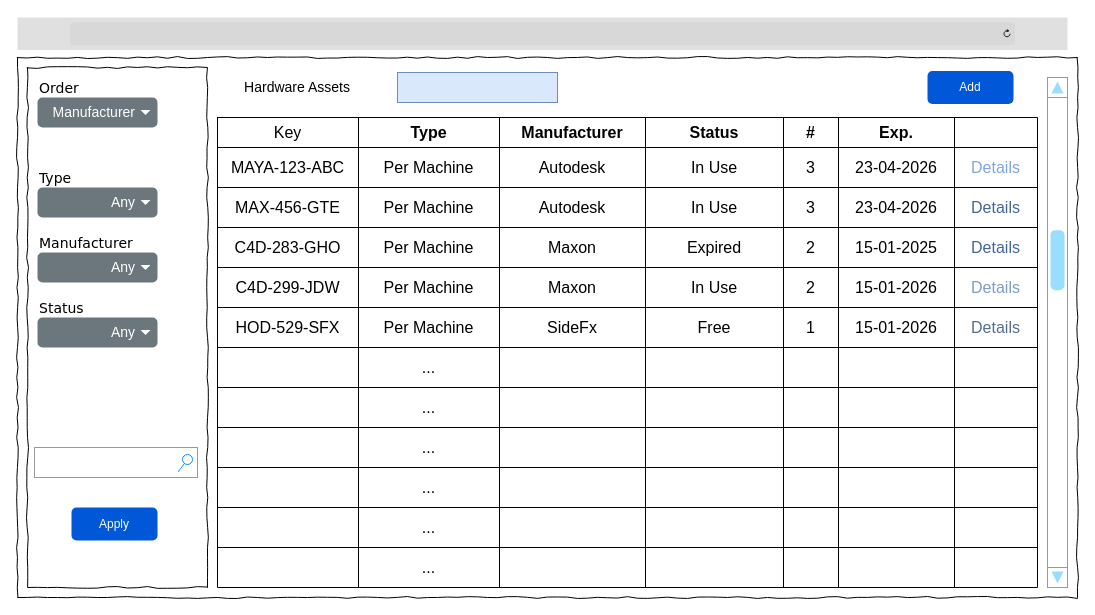
This 1095x615 diagram has some shape labels left out. Here are the shapes that lost their labels. From the top down, the centre of each, then its label:
At point (542, 33): "companyitassets/assets/software".
At point (477, 87): "Software Assets".
At point (116, 462): "Search".
